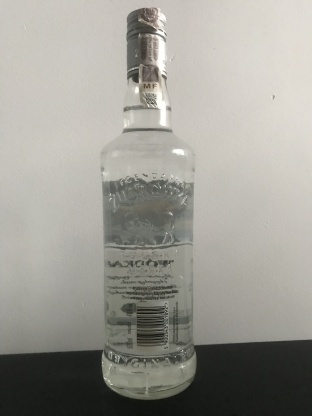nakretka: (124, 6, 169, 81)
